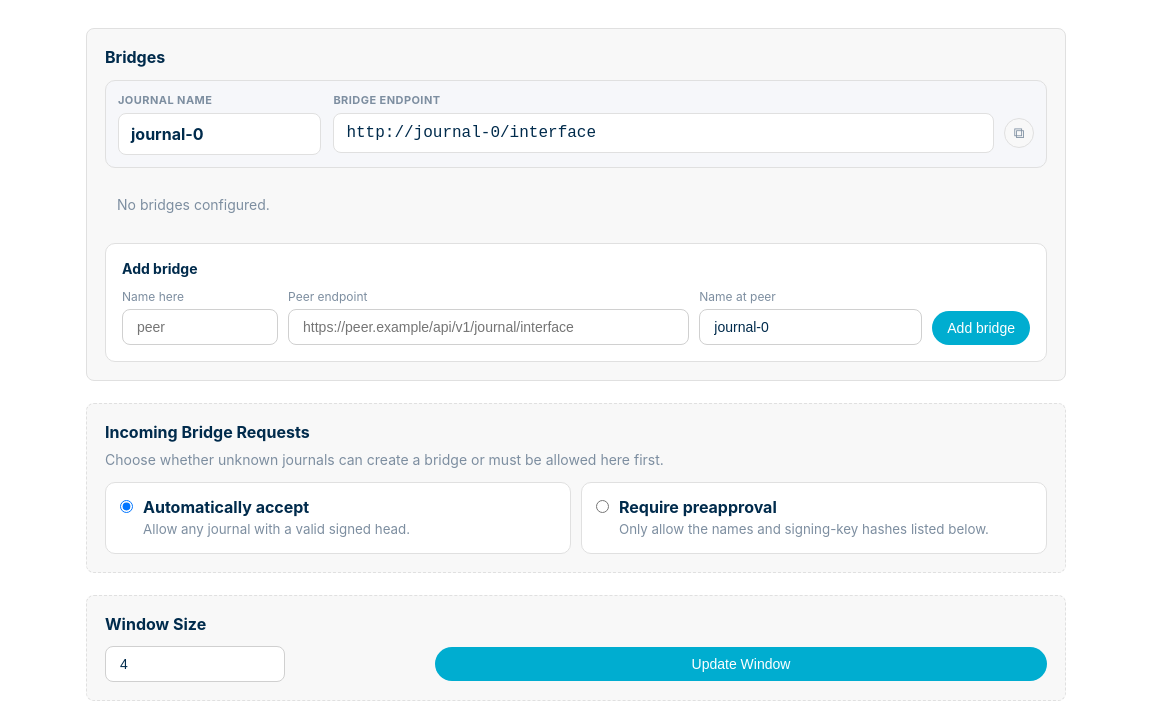
Test case: AdminPanel › preserves a successful submission when its authoritative reload fails
Type "beagle" into the field with placeholder "peer" at [200, 327], box [122, 309, 278, 345]
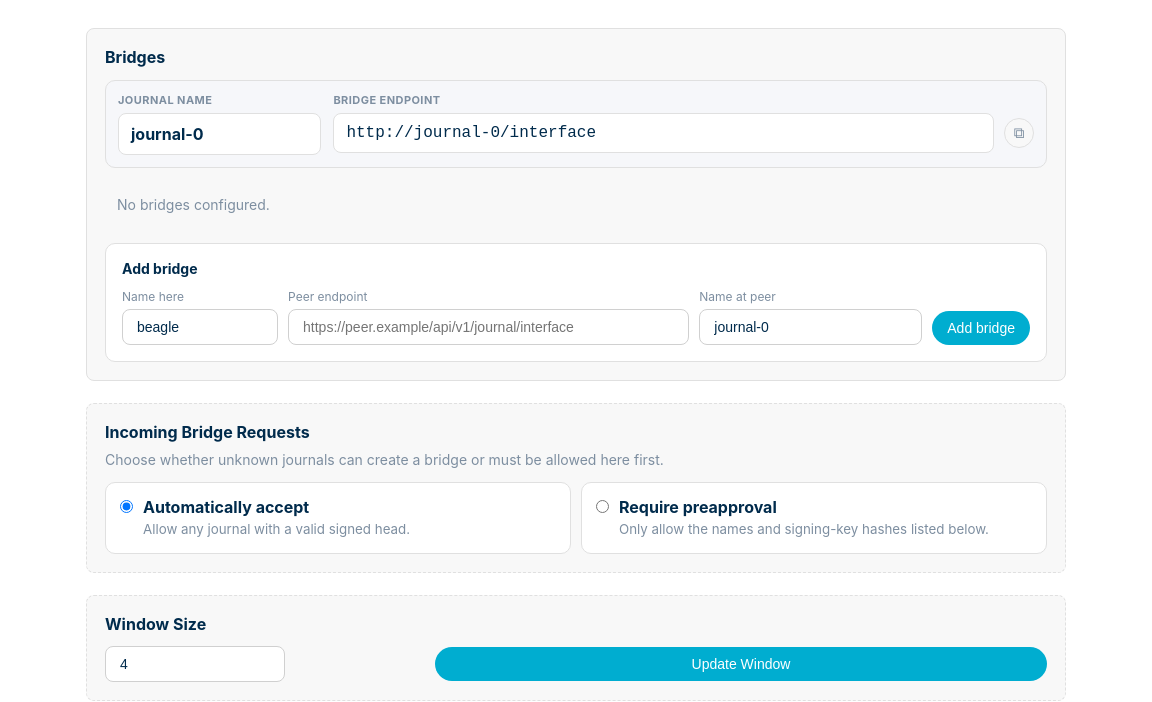
Type "https://beagle/interface" into the field with placeholder "https://peer.example/api/v1/journal/interface" at [489, 327], box [288, 309, 689, 345]
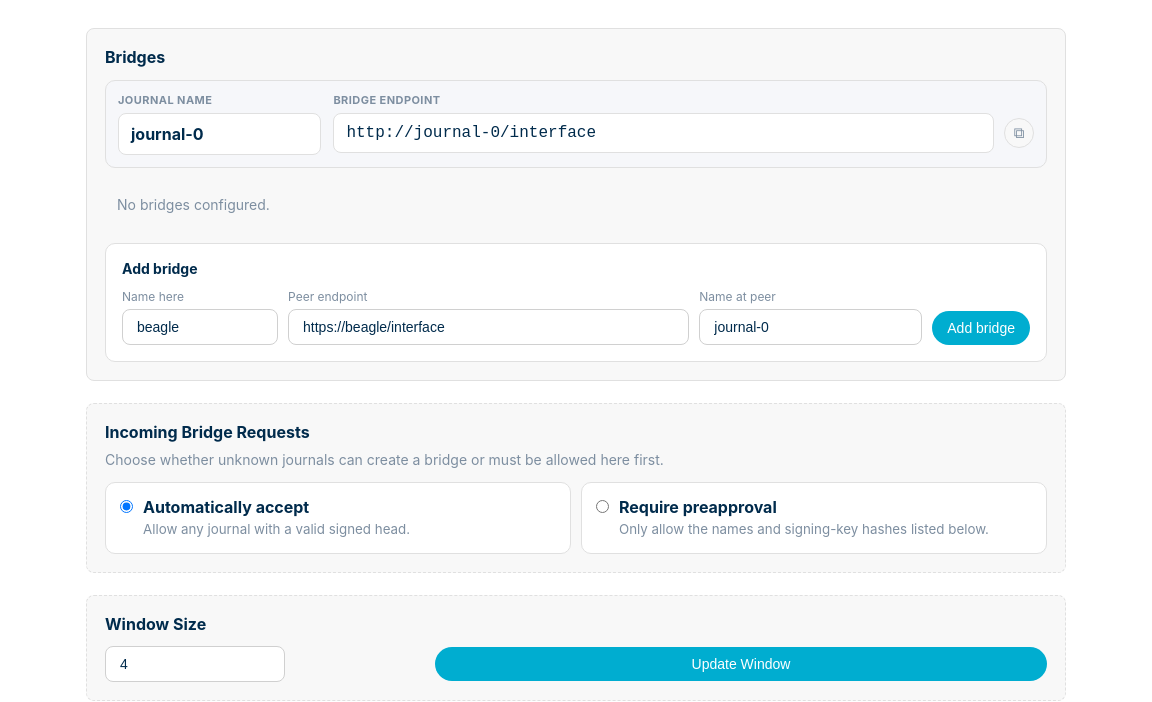
Click the button "Add bridge" at [981, 328], box [932, 311, 1030, 345]
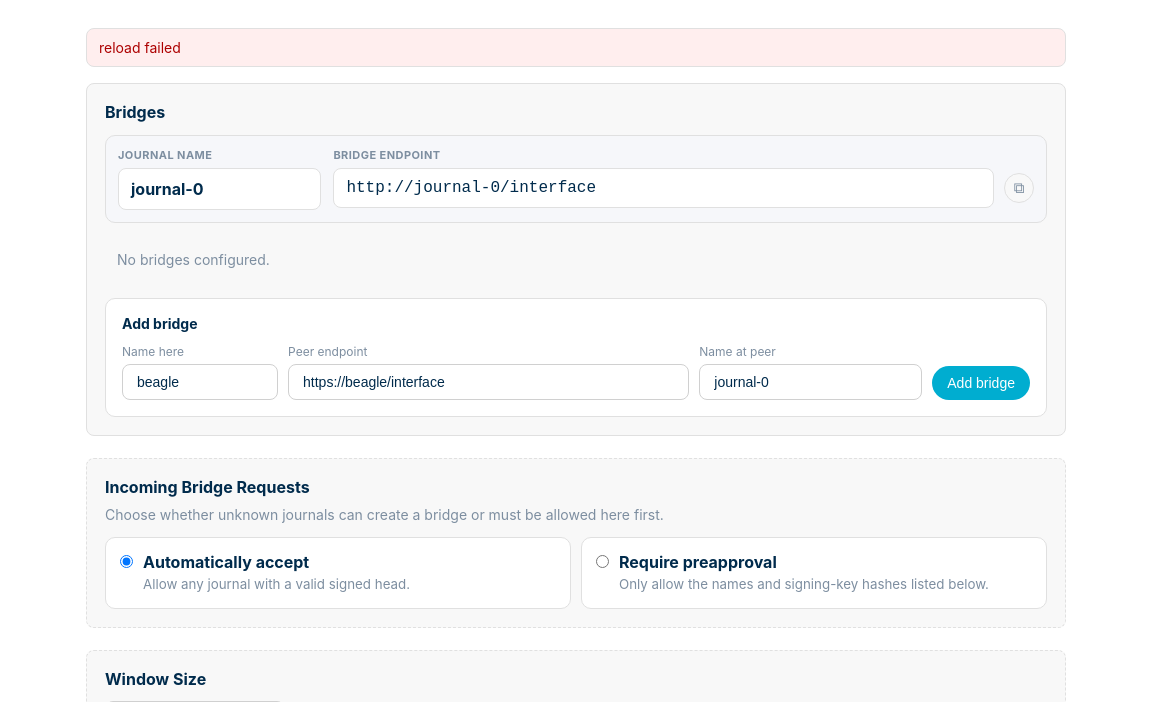
Now the text "reload failed" is shown, box [86, 28, 1066, 67]
